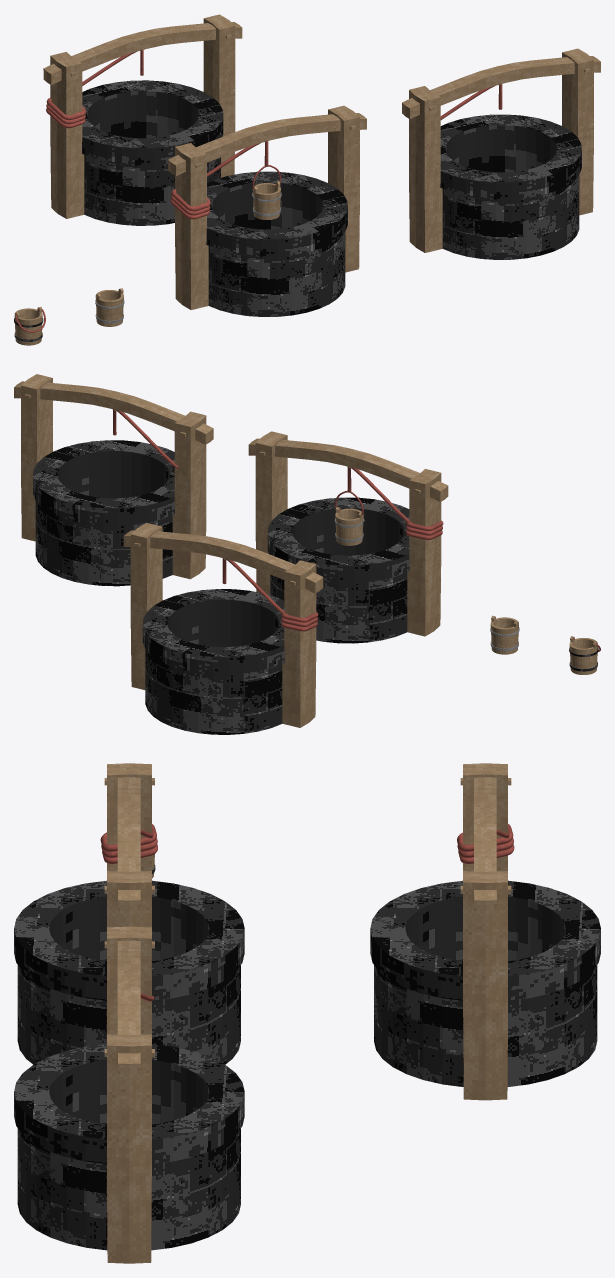
File: Studnia.fbx
3 views of the same model, one above another, from view 1: azimuth 30°, elevation 25°; view 2: azimuth 150°, elevation 25°; view 3: azimuth 270°, elevation 25° (orthographic). The views are drawn at different scales.
Visible parts, largest first — view 1: Rope.003, Rope.001, Rope.002, Bucket.002, Bucket.001, Bucket; view 2: Rope.002, Rope.003, Rope.001, Bucket.002, Bucket.001, Bucket; view 3: Rope.002, Rope.003, Rope.001.
Boxes of the visible parts, x1,y1,x2,y2 form: Rope.003: [402, 48, 600, 259]; Rope.001: [168, 105, 366, 316]; Rope.002: [43, 14, 242, 225]; Bucket.002: [252, 165, 281, 219]; Bucket.001: [14, 307, 45, 345]; Bucket: [95, 288, 124, 326]; Rope.002: [123, 522, 323, 734]; Rope.003: [14, 374, 213, 586]; Rope.001: [248, 431, 448, 643]; Bucket.002: [334, 490, 364, 545]; Bucket.001: [569, 636, 600, 674]; Bucket: [490, 615, 519, 654]; Rope.002: [370, 763, 600, 1100]; Rope.003: [14, 926, 244, 1263]; Rope.001: [14, 763, 244, 1064].
Bounding box in the file's own units: 744 × 193 × 455.
Materials: 5 (4 with a texture image).
